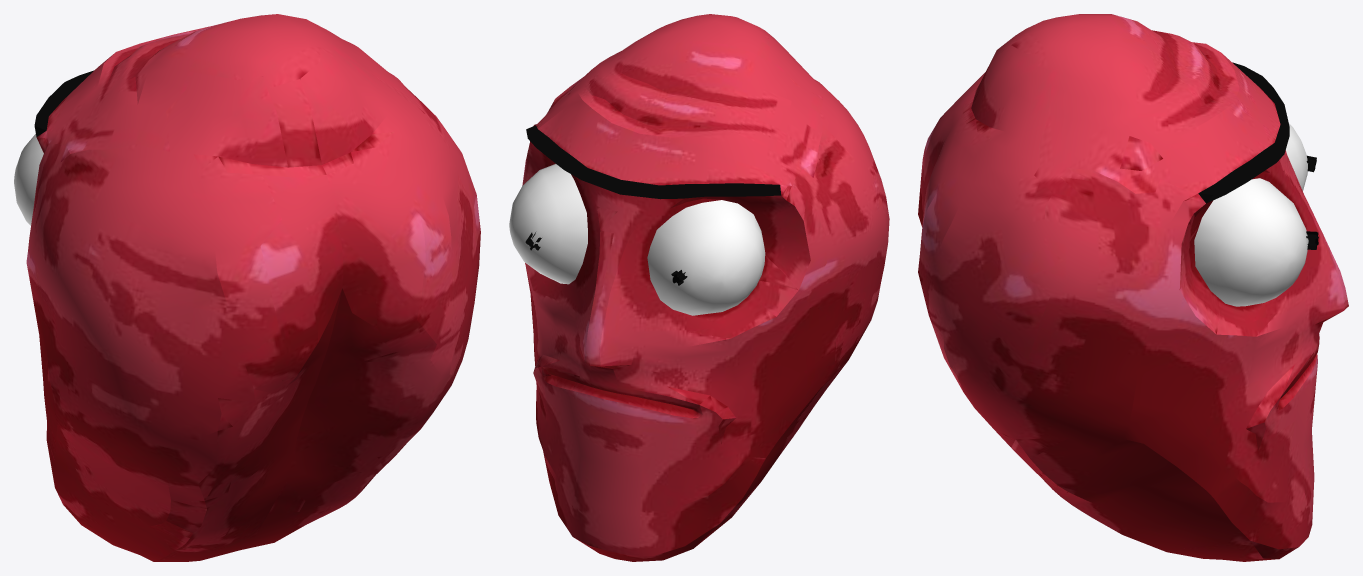
File: crom-red.glb
The picture shows the model from 3 angles, left to right: view 1: azimuth 30°, elevation 25°; view 2: azimuth 150°, elevation 25°; view 3: azimuth 270°, elevation 25°; orthographic projection. The views are drawn at different scales.
Parts seen in each view (by area): view 1: head, eye1, eyebrow; view 2: head, eye1, eye2, eyebrow; view 3: head, eye2, eyebrow, eye1.
Part boxes in pixels (x1=…): head: x1=26, y1=14, x2=480, y2=561; eye1: x1=14, y1=134, x2=43, y2=225; eyebrow: x1=34, y1=70, x2=93, y2=136; head: x1=522, y1=14, x2=889, y2=561; eye1: x1=647, y1=200, x2=765, y2=315; eye2: x1=509, y1=164, x2=587, y2=284; eyebrow: x1=526, y1=125, x2=781, y2=199; head: x1=918, y1=14, x2=1348, y2=561; eye2: x1=1194, y1=178, x2=1308, y2=306; eyebrow: x1=1198, y1=62, x2=1289, y2=203; eye1: x1=1286, y1=123, x2=1307, y2=190.
Size of the model in its own units: 66.64 by 91.49 by 68.71.
3 materials, 1 textured.
